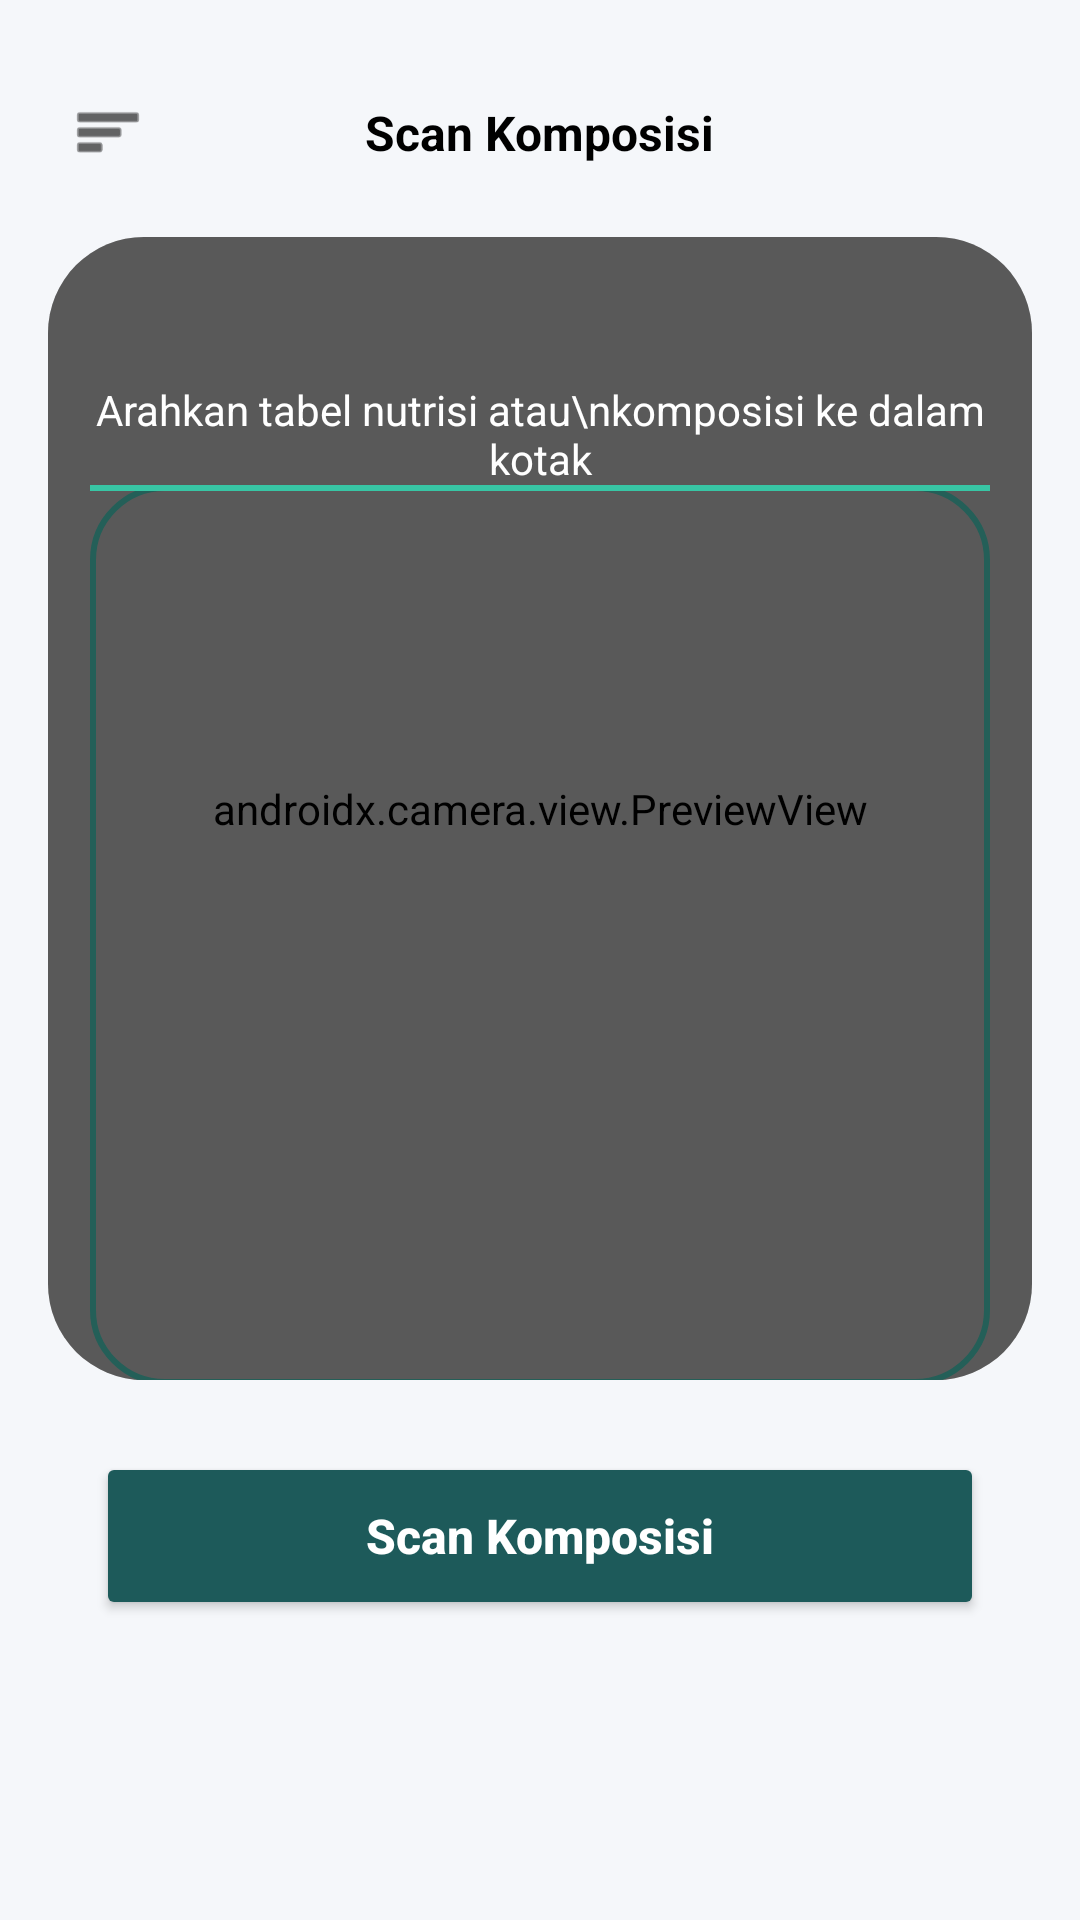

Screen size 1080w x 1920h. Icon name, then its box in pixels as {"left": x1, "top": y1, "right": x2, "bottom": y2}:
sort by size: {"left": 77, "top": 112, "right": 139, "bottom": 153}
